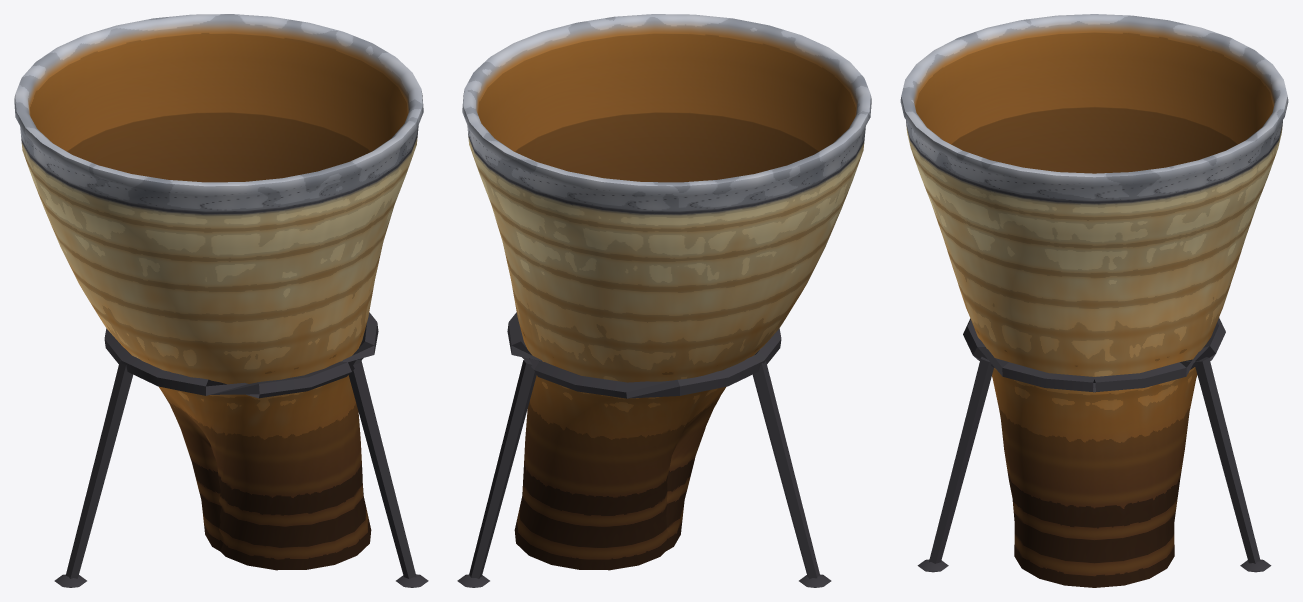
Rendered from Cup_Horn.fbx.
3 views of the same model, side by side, from view 1: azimuth 30°, elevation 25°; view 2: azimuth 150°, elevation 25°; view 3: azimuth 270°, elevation 25° (orthographic). The views are drawn at different scales.
Visible parts, largest first — view 1: Cup_Horn; view 2: Cup_Horn; view 3: Cup_Horn.
Boxes of the visible parts, x1,y1,x2,y2 form: Cup_Horn: [14, 14, 428, 587]; Cup_Horn: [457, 14, 871, 587]; Cup_Horn: [900, 14, 1288, 587].
Bounding box in the file's own units: 0.7396 × 0.9 × 0.7396.
Materials: 1 (1 with a texture image).
